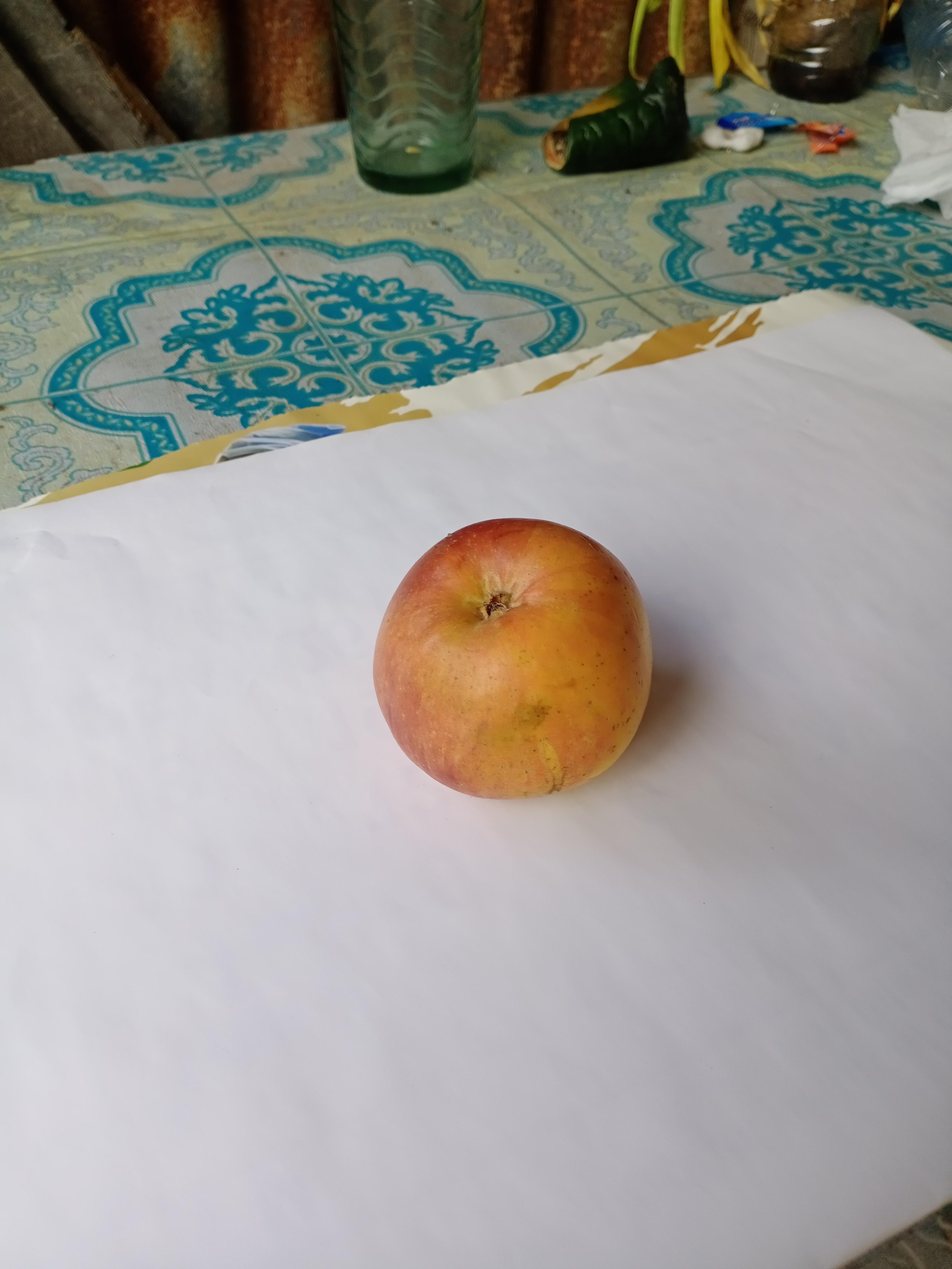Apple Ripe: (364, 501, 664, 815)
